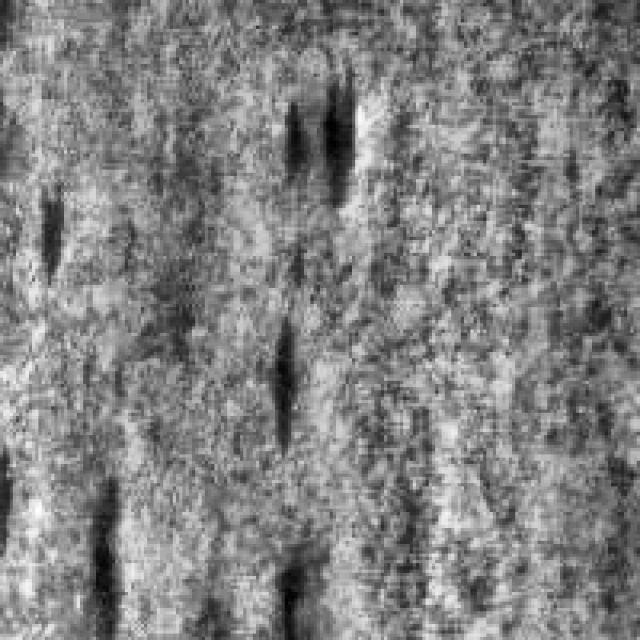Patches: (266, 54, 362, 205), (74, 467, 124, 634), (252, 310, 308, 454), (23, 170, 70, 292)
